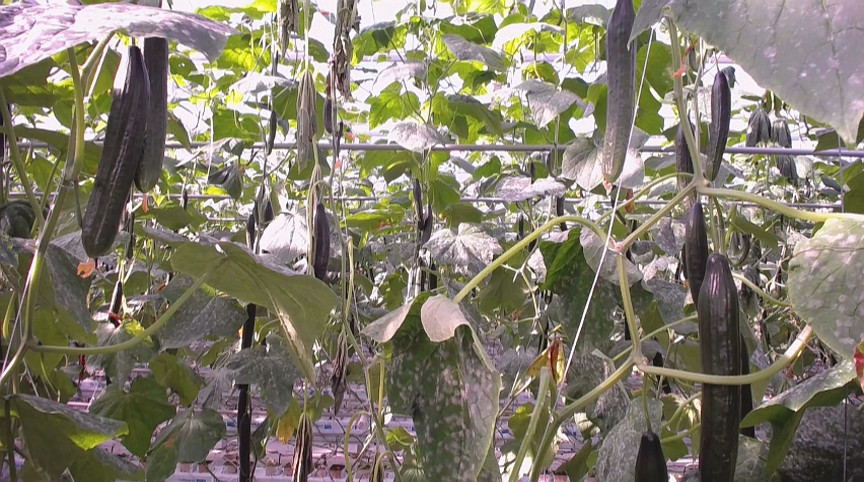cucumber: (84, 46, 145, 259), (694, 252, 742, 481), (604, 1, 637, 182), (135, 36, 168, 191), (707, 72, 732, 180), (683, 205, 707, 297), (633, 434, 669, 482), (310, 203, 330, 282)
